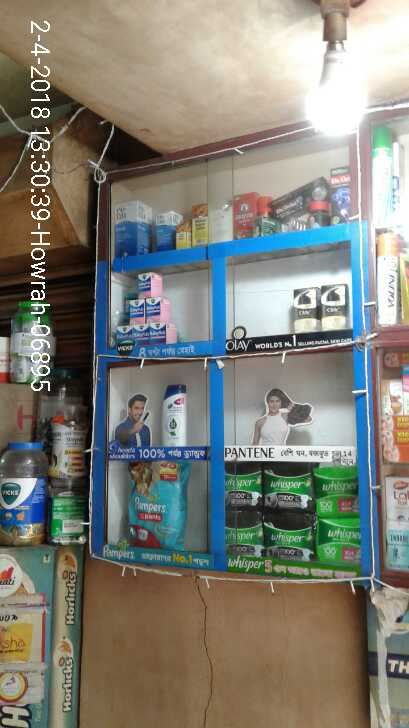vicks: (120, 268, 176, 348)
